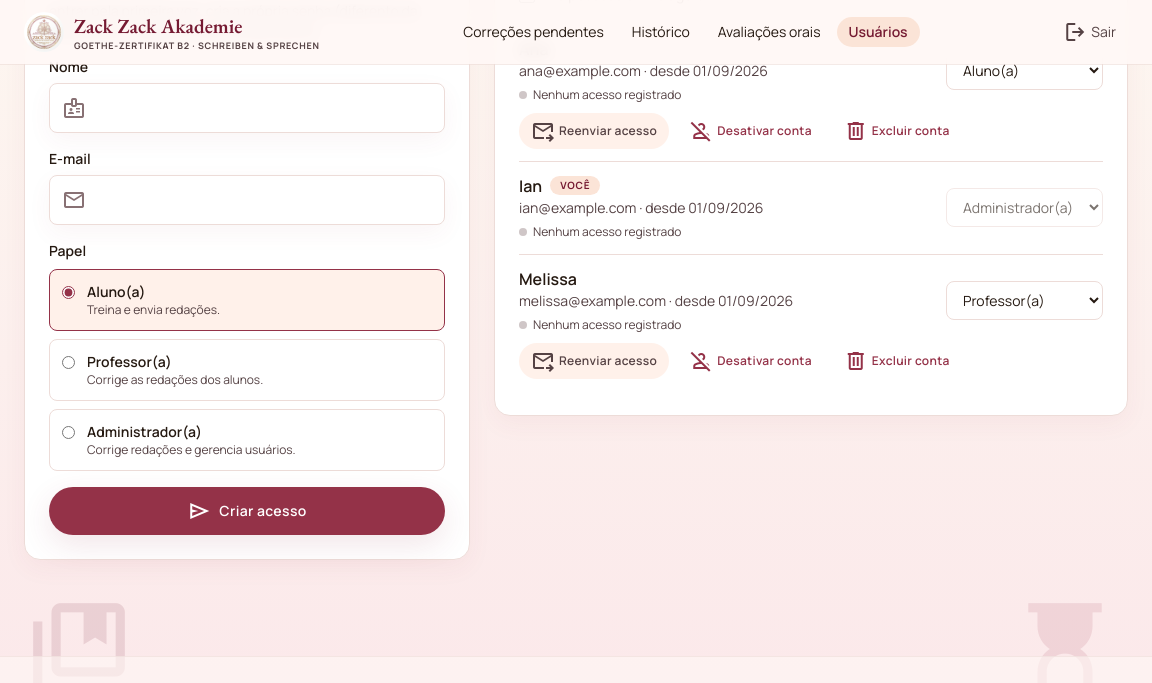
Test: user administration › explains why a teacher who gave feedback cannot be deleted
The image size is (1152, 683).
(page scrolled)
Click the button "Excluir conta" below "melissa@example.com": click(897, 360) [832,342,962,378]
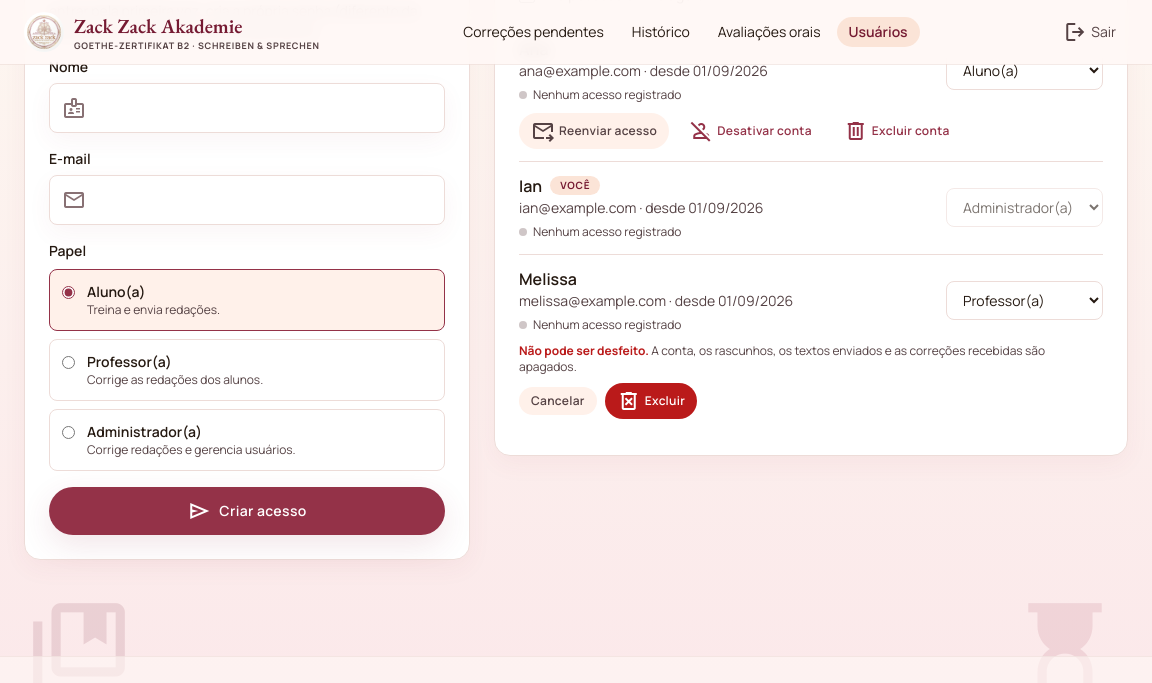
Click the button "Excluir": click(651, 400) [605,382,697,418]
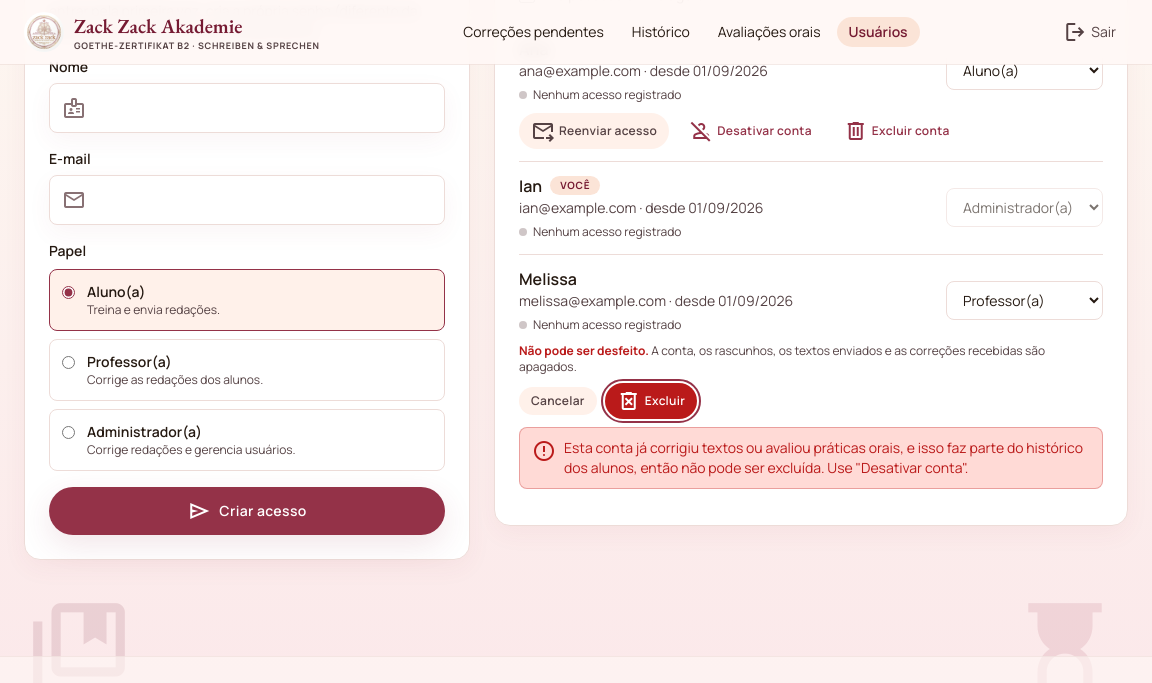
Check: the text "já corrigiu textos" is shown, box [564,438,1083,476]
